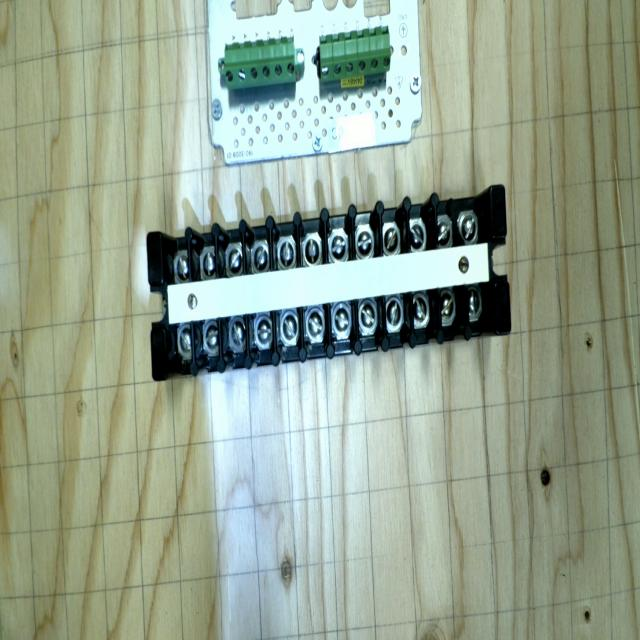Flathead_Block: (134, 186, 524, 380)
Terminal_1: (314, 26, 395, 82), (222, 36, 298, 86)
